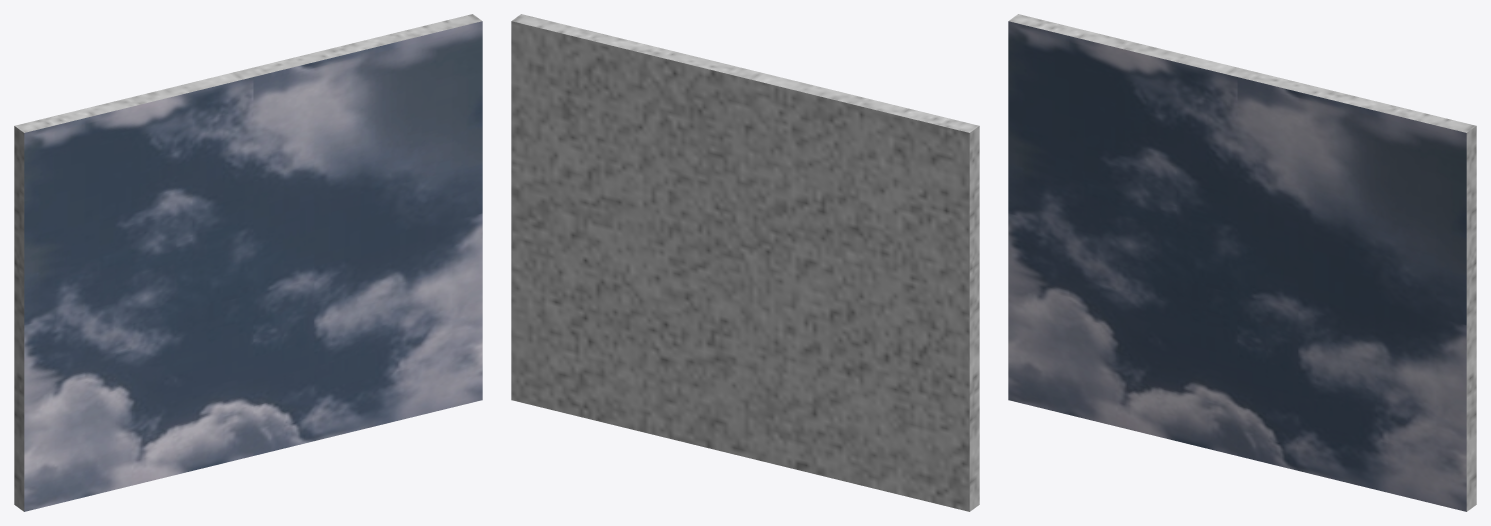
The model's file is PaintingA.gltf.
3 renders of one model, left to right at view 1: azimuth 30°, elevation 25°; view 2: azimuth 150°, elevation 25°; view 3: azimuth 330°, elevation 25°, orthographic.
Parts seen in each view (by area): view 1: PaintingA; view 2: PaintingA; view 3: PaintingA.
Part boxes in pixels (left/top/right/bottom): PaintingA: left=14, top=14, right=482, bottom=511; PaintingA: left=511, top=14, right=979, bottom=511; PaintingA: left=1008, top=14, right=1476, bottom=511.
Bounding box in the file's own units: 2.53 × 2 × 0.0938.
2 materials, 2 textured.
